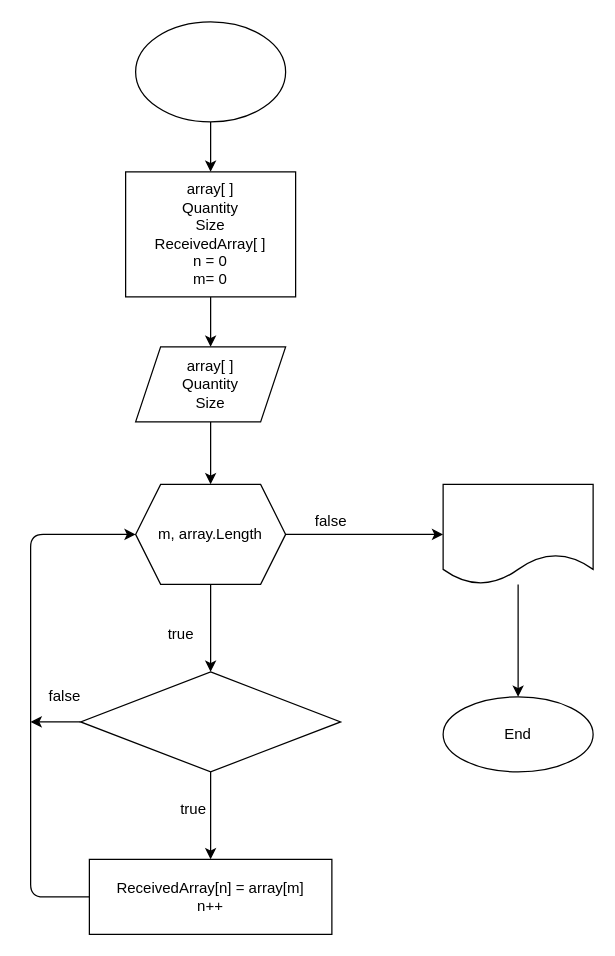
Image size: 615x956. Some labels were removed from this diagram. Here are the shapes that lost their labels. From the top down, the centre of each, then its label:
At (210,71): "Start".
At (517,533): "ReceivedArray".
At (210,721): "array[m].Length <= Quantity".
